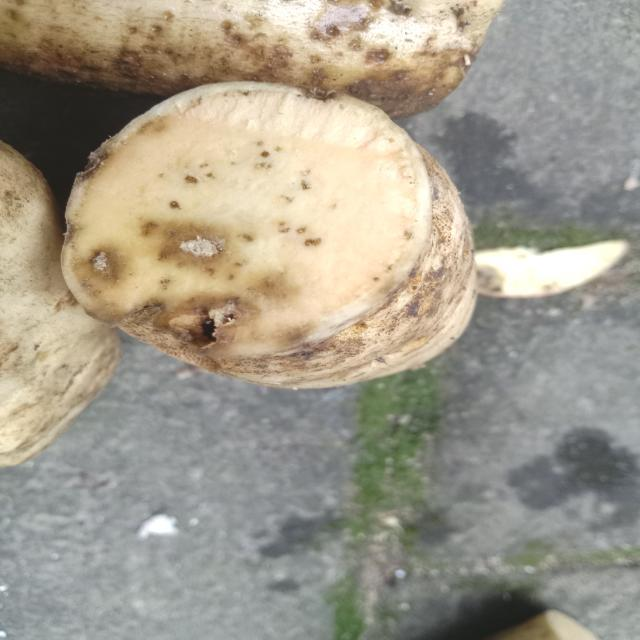Sick Sweet Potato_Tuber Rot: (63, 82, 432, 359)
